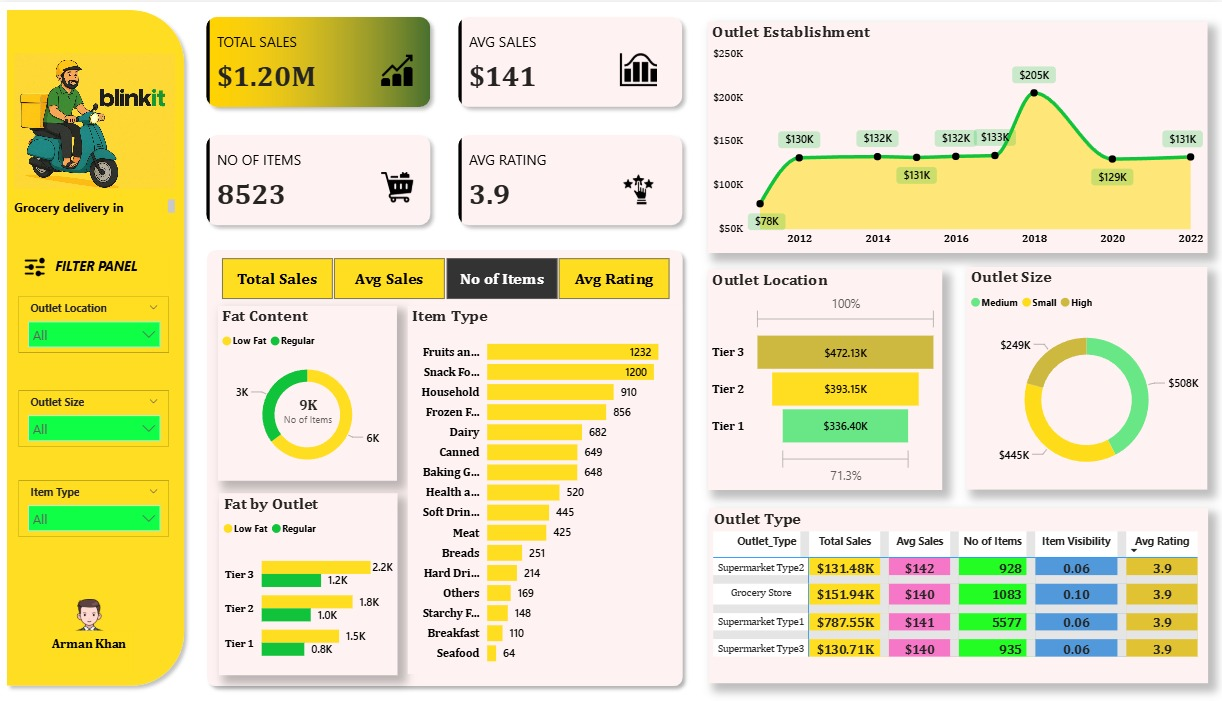

This screenshot's page, from the dashboard's own definition file:
{"tool":"powerbi","page":{"name":"Page 1","canvas":[1400,800],"ordinal":0},"visuals":[{"type":"shape","box":[0,0,220.5,790.4],"z":0},{"type":"image","box":[11,53.4,195.9,167.1],"z":1000},{"type":"textbox","box":[11,220.5,195.9,30.1],"z":2000},{"type":"shape","box":[23.3,337,171.2,63],"z":3000},{"type":"shape","box":[23.3,443.8,171.2,63],"z":4000},{"type":"shape","box":[23.3,546.6,171.2,63],"z":5000},{"type":"textbox","box":[58.9,286.3,135.6,39.7],"z":6000},{"type":"image","box":[23.3,286.3,35.6,34.2],"z":7000},{"type":"slicer","fields":{"Values":["BlinkIT.Outlet_Location_Type"]},"box":[23.3,337,171.2,63],"z":8000},{"type":"slicer","fields":{"Values":["BlinkIT.Outlet_Size"]},"box":[23.3,443.8,171.2,63],"z":9000},{"type":"slicer","fields":{"Values":["BlinkIT.Item_Type"]},"box":[23.3,546.6,171.2,63],"z":10000},{"type":"cardVisual","fields":{"Data":["BlinkIT.Total Sales","BlinkIT.Avg Sales","BlinkIT.No of Items","BlinkIT.Avg Rating"]},"box":[220.5,0,578.1,274],"z":11000},{"type":"image","box":[427.4,53.4,54.8,50.7],"z":12000},{"type":"image","box":[428.8,189,53.4,46.6],"z":13000},{"type":"image","box":[700,52.1,61.6,52.1],"z":14000},{"type":"image","box":[700,189,61.6,52.1],"z":15000},{"type":"shape","box":[228.8,274,561.6,516.4],"z":16000},{"type":"donutChart","title":"Fat Content","fields":{"Y":["BlinkIT.No of Items"],"Category":["BlinkIT.Item_Fat_Content"]},"box":[250.7,347.2,205.1,199.7],"z":17000},{"type":"slicer","fields":{"Values":["Metrics.Metrics"]},"box":[228.8,286.3,561.6,60.3],"z":18000},{"type":"clusteredBarChart","title":"Fat by Outlet","fields":{"Y":["BlinkIT.No of Items"],"Category":["BlinkIT.Outlet_Location_Type"],"Series":["BlinkIT.Item_Fat_Content"]},"box":[252,561.7,203.8,207.8],"z":19000},{"type":"cardVisual","fields":{"Data":["BlinkIT.No of Items"]},"box":[305.6,434.3,95.2,57.6],"z":20000},{"type":"image","box":[79.1,674.3,49.6,57.6],"z":21000},{"type":"textbox","box":[50.9,718.5,103.2,49.6],"z":22000},{"type":"barChart","title":"Item Type","fields":{"Y":["BlinkIT.No of Items"],"Category":["BlinkIT.Item_Type"]},"box":[467.8,347.2,313.7,420.9],"z":23000},{"type":"lineChart","title":"Outlet Establishment","fields":{"Y":["BlinkIT.Total Sales"],"Category":["BlinkIT.Outlet_Establishment_Year"]},"box":[809.7,22.8,571,264.1],"z":24000},{"type":"funnel","title":"Outlet Location","fields":{"Y":["BlinkIT.Total Sales"],"Category":["BlinkIT.Outlet_Location_Type"]},"box":[809.7,305.6,268.1,252],"z":25000},{"type":"donutChart","title":"Outlet Size","fields":{"Y":["BlinkIT.Total Sales"],"Category":["BlinkIT.Outlet_Size"]},"box":[1105.9,303,274.8,254.7],"z":26000},{"type":"pivotTable","title":"Outlet Type","fields":{"Rows":["BlinkIT.Outlet_Type"],"Values":["BlinkIT.Total Sales","BlinkIT.Avg Sales","BlinkIT.No of Items","Avg(BlinkIT.Item_Visibility)","BlinkIT.Avg Rating"]},"box":[811.4,578.6,570,200],"z":27000}]}

Visuals, with their boxes in screenshot pixels (x1, y1, x2, y2), scaled from the page's 1400x800 canvas onto the 1222x701 screenshot:
shape: [left=0, top=0, right=192, bottom=693]
image: [left=10, top=47, right=181, bottom=193]
textbox: [left=10, top=193, right=181, bottom=220]
shape: [left=20, top=295, right=170, bottom=350]
shape: [left=20, top=389, right=170, bottom=444]
shape: [left=20, top=479, right=170, bottom=534]
textbox: [left=51, top=251, right=170, bottom=286]
image: [left=20, top=251, right=51, bottom=281]
slicer - BlinkIT.Outlet_Location_Type: [left=20, top=295, right=170, bottom=350]
slicer - BlinkIT.Outlet_Size: [left=20, top=389, right=170, bottom=444]
slicer - BlinkIT.Item_Type: [left=20, top=479, right=170, bottom=534]
cardVisual - BlinkIT.Total Sales x BlinkIT.Avg Sales: [left=192, top=0, right=697, bottom=240]
image: [left=373, top=47, right=421, bottom=91]
image: [left=374, top=166, right=421, bottom=206]
image: [left=611, top=46, right=665, bottom=91]
image: [left=611, top=166, right=665, bottom=211]
shape: [left=200, top=240, right=690, bottom=693]
"Fat Content" donutChart: [left=219, top=304, right=398, bottom=479]
slicer - Metrics.Metrics: [left=200, top=251, right=690, bottom=304]
"Fat by Outlet" clusteredBarChart: [left=220, top=492, right=398, bottom=674]
cardVisual - BlinkIT.No of Items: [left=267, top=381, right=350, bottom=431]
image: [left=69, top=591, right=112, bottom=641]
textbox: [left=44, top=630, right=135, bottom=673]
"Item Type" barChart: [left=408, top=304, right=682, bottom=673]
"Outlet Establishment" lineChart: [left=707, top=20, right=1205, bottom=251]
"Outlet Location" funnel: [left=707, top=268, right=941, bottom=489]
"Outlet Size" donutChart: [left=965, top=266, right=1205, bottom=489]
"Outlet Type" pivotTable: [left=708, top=507, right=1206, bottom=682]
